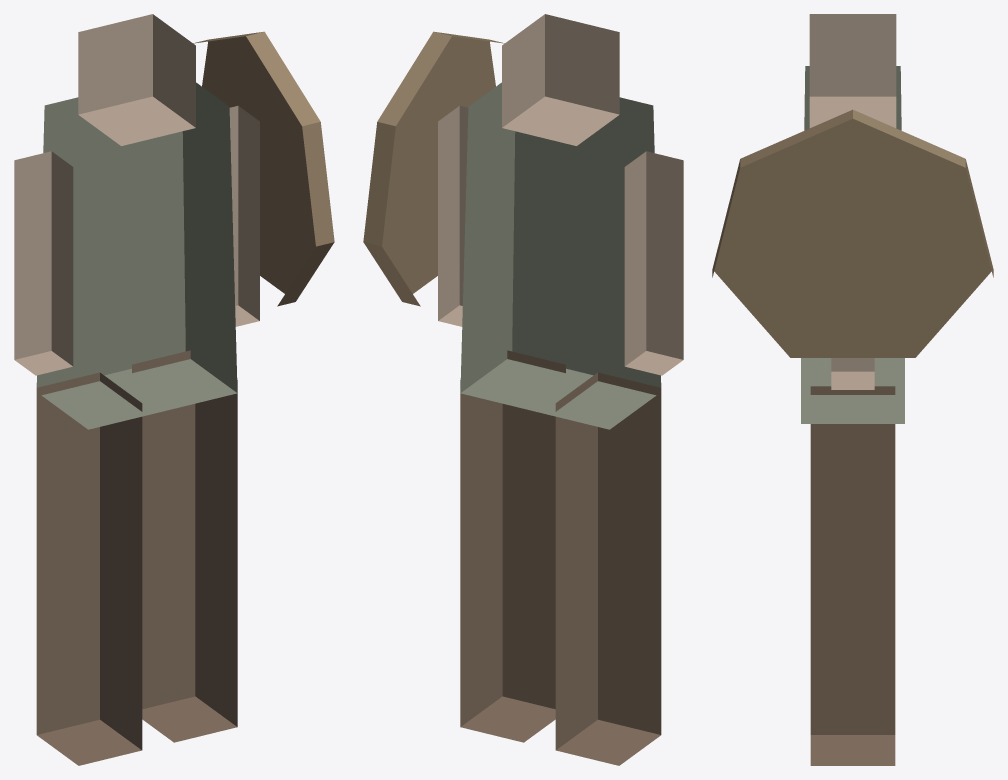
Rendered from archers.glb.
The picture shows the model from 3 angles, left to right: view 1: azimuth 30°, elevation 25°; view 2: azimuth 150°, elevation 25°; view 3: azimuth 270°, elevation 25°; orthographic projection.
Visible parts, largest first — view 1: archers; view 2: archers; view 3: archers.
Part boxes in pixels (<box>): archers: <box>14,14,334,765</box>; archers: <box>363,14,683,765</box>; archers: <box>712,14,993,765</box>.
Bounding box in the file's own units: 0.5775 × 1.6 × 0.585.
